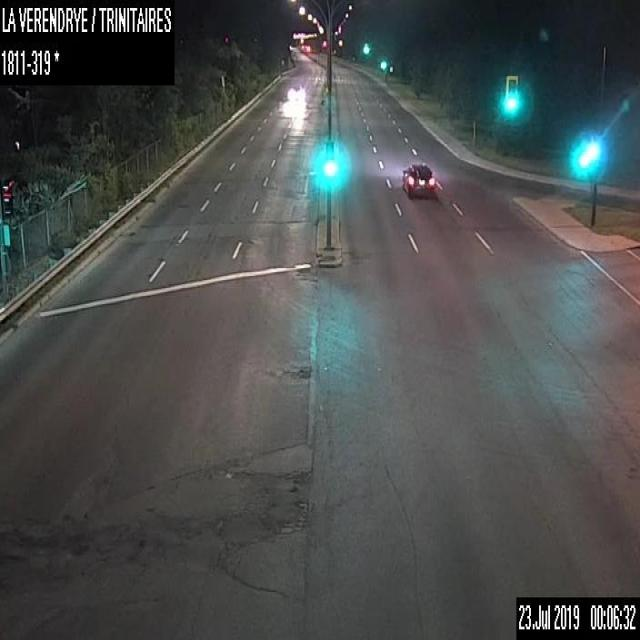vehicle: (400, 162, 436, 202), (286, 84, 304, 98)
